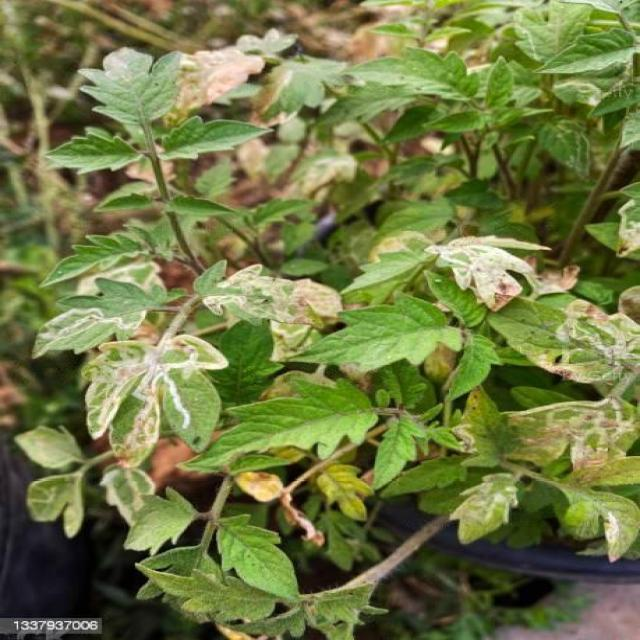Healthy: (177, 374, 379, 462), (284, 291, 464, 374), (159, 115, 275, 162), (37, 129, 146, 176)
